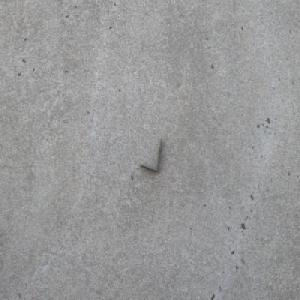MetalPart: (140, 137, 162, 173)
